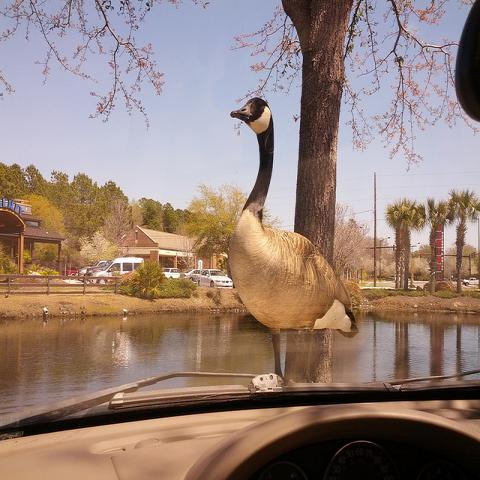car: (84, 259, 113, 281), (200, 270, 234, 288), (76, 264, 93, 282), (184, 270, 200, 282), (165, 269, 181, 278)
truck: (90, 257, 143, 277), (61, 266, 78, 276), (462, 278, 479, 286)
